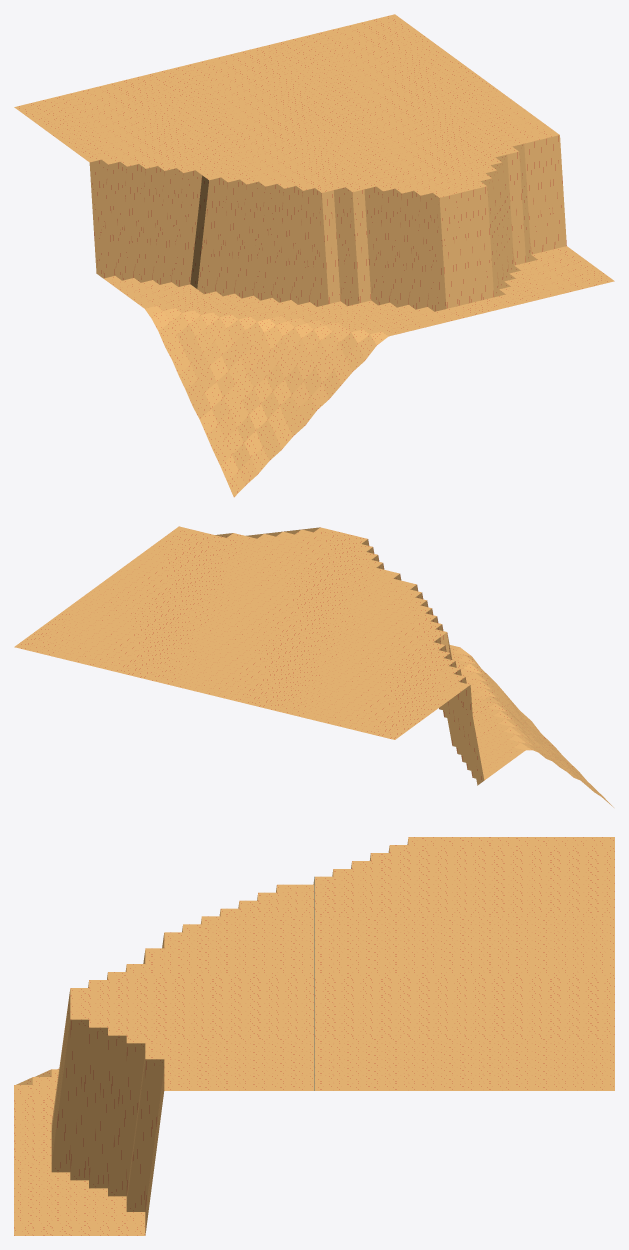
The model's file is map_chunked_027.gltf.
The picture shows the model from 3 angles, top to bottom: view 1: azimuth 30°, elevation 25°; view 2: azimuth 150°, elevation 25°; view 3: azimuth 270°, elevation 25°; orthographic projection. The views are drawn at different scales.
Visible parts, largest first — view 1: map_chunked.027; view 2: map_chunked.027; view 3: map_chunked.027.
Boxes of the visible parts, x1=… form: map_chunked.027: x1=14, y1=14, x2=614, y2=497; map_chunked.027: x1=14, y1=526, x2=613, y2=807; map_chunked.027: x1=14, y1=837, x2=614, y2=1235.
Size of the model in its own units: 32 by 18.42 by 32.
1 material, 1 textured.
